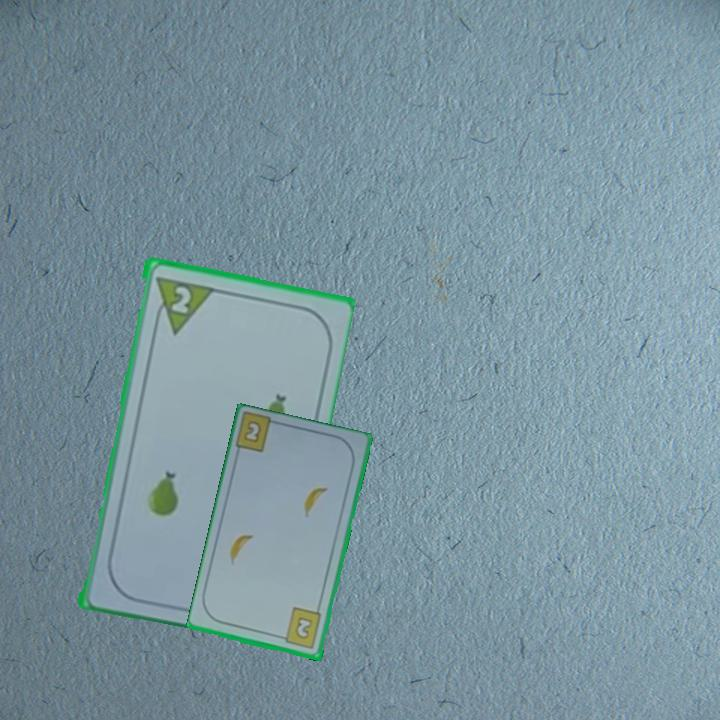2b: (276, 605, 324, 652), (232, 412, 283, 456)
2p: (149, 272, 214, 336)
